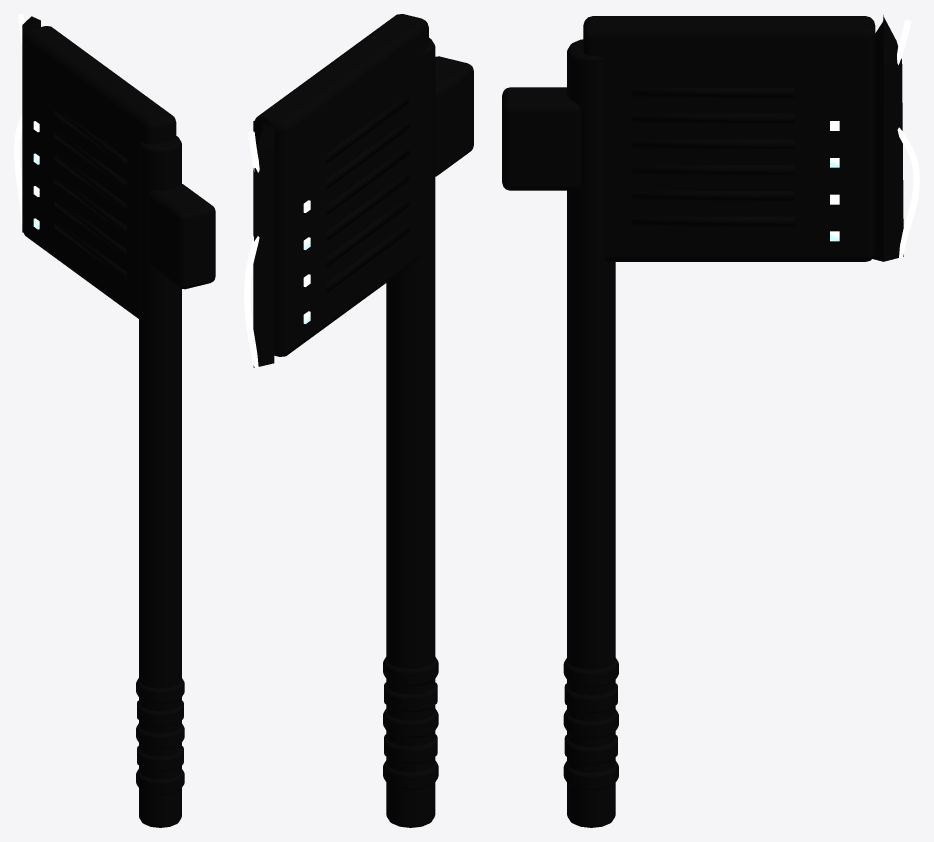
Rendered from hacha_servidor.glb.
3 renders of one model, left to right at view 1: azimuth 30°, elevation 25°; view 2: azimuth 150°, elevation 25°; view 3: azimuth 270°, elevation 25°, orthographic. The views are drawn at different scales.
Visible parts, largest first — view 1: hacha_servidor; view 2: hacha_servidor; view 3: hacha_servidor.
Boxes of the visible parts, <box> form: hacha_servidor: <box>14,14,215,827</box>; hacha_servidor: <box>244,14,473,827</box>; hacha_servidor: <box>502,15,919,827</box>.
Size of the model in its own units: 0.068 by 1.09 by 0.5148.
Materials: 3 (1 with a texture image).
